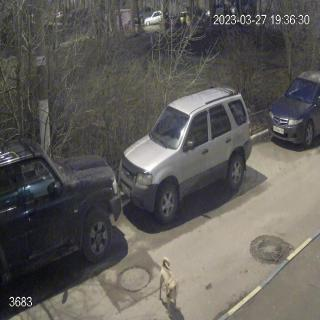dog: (160, 257, 178, 311)
